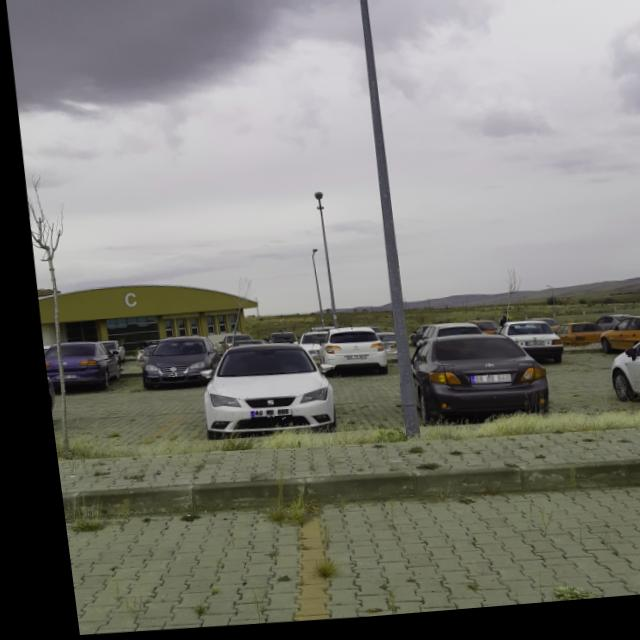license_plate: (238, 412, 280, 425), (459, 380, 500, 392), (153, 374, 173, 380), (515, 349, 535, 354), (337, 360, 356, 365)
